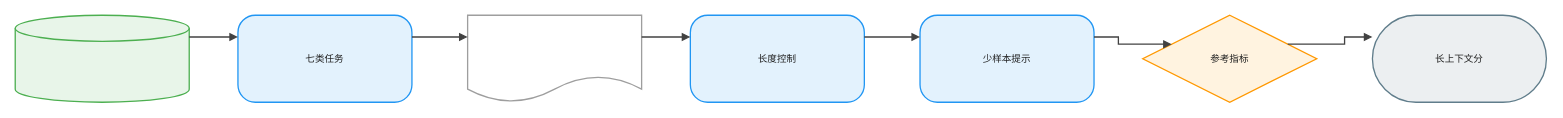
Some shapes in this 1563 by 118 pixel diagram are drawn without their labels. Here are the shapes that lost their labels. From the top down, the centre of each, then its label:
At [101,58]: "评测目标".
At [554,58]: "任务集合".
